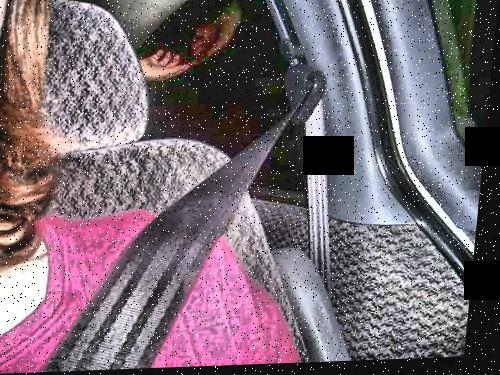seatbelt: (74, 76, 376, 313)
